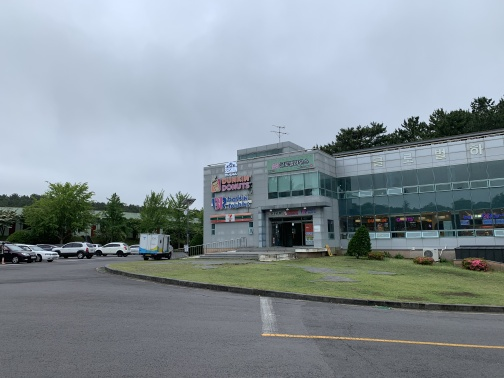Global House: (200, 131, 503, 262)
